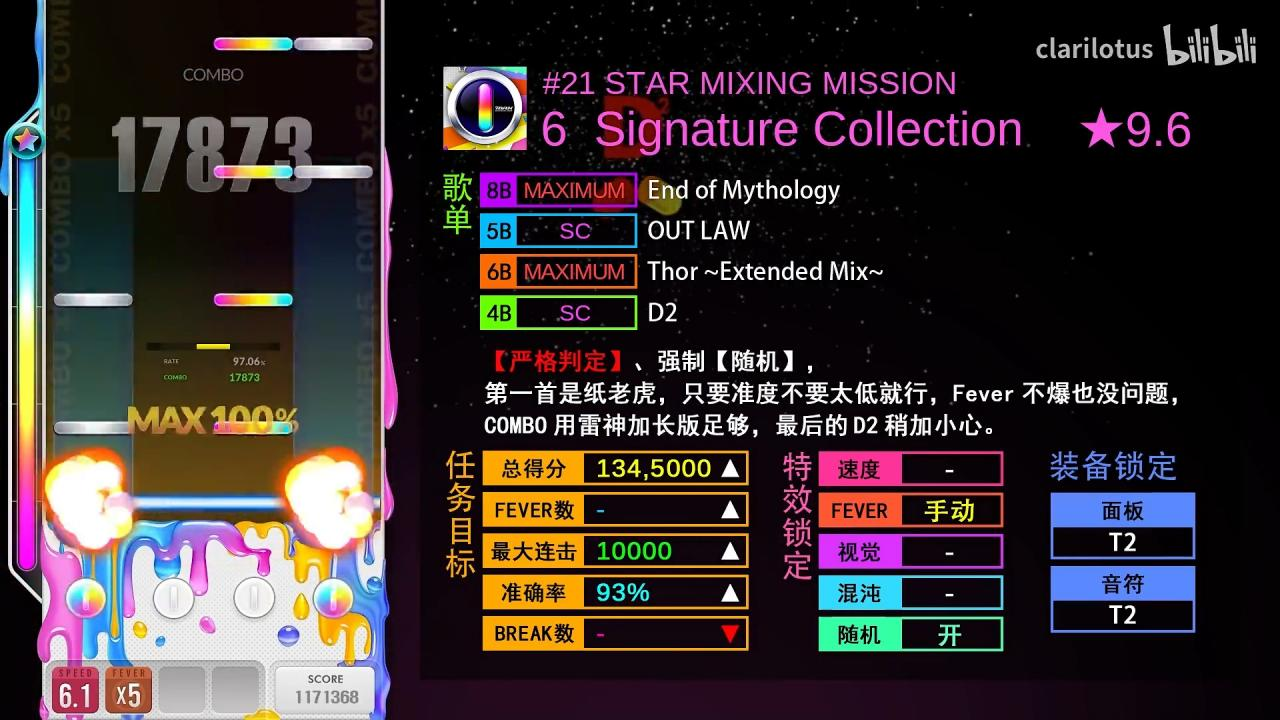note: (53, 420, 135, 436), (213, 420, 294, 436), (213, 36, 294, 51), (53, 293, 133, 307), (294, 37, 373, 51), (213, 165, 292, 179), (214, 293, 293, 307), (294, 165, 372, 179)
